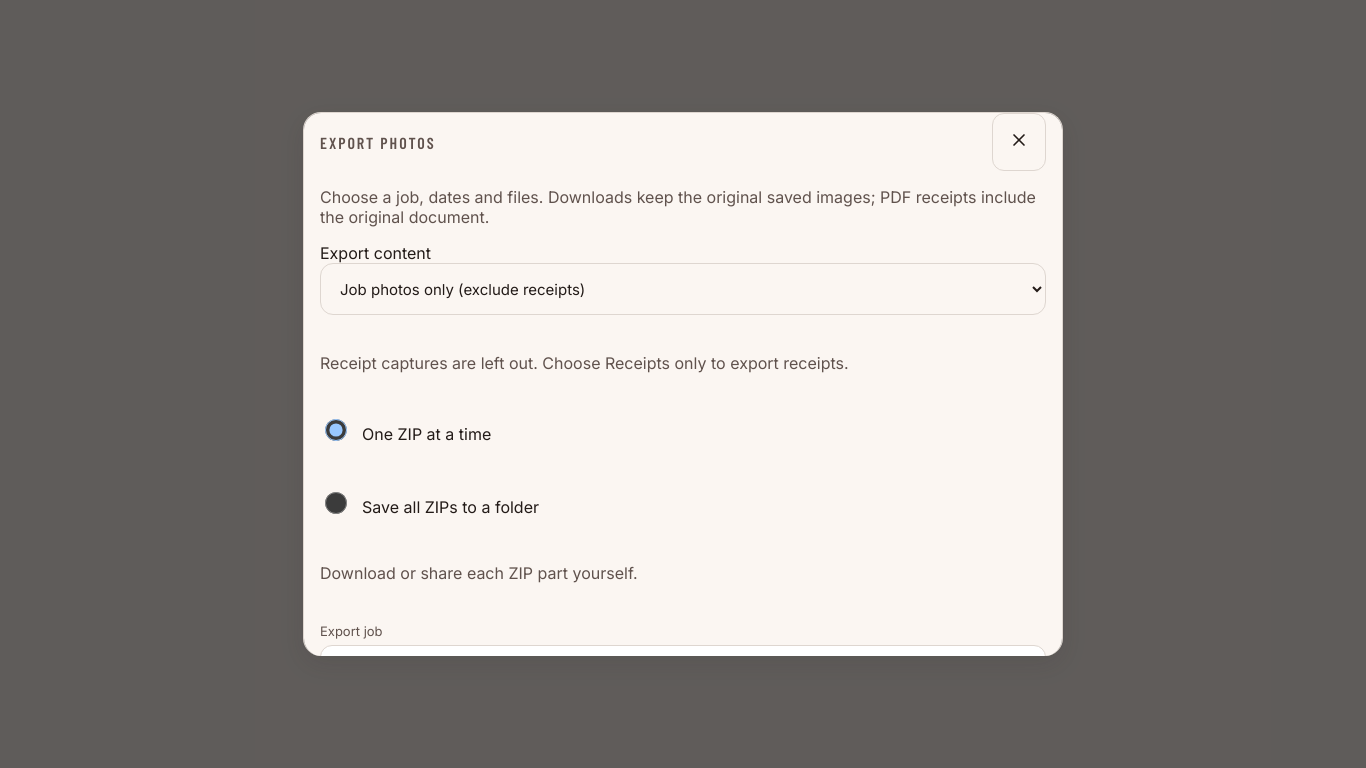
Test: acknowledged manual completion of the only ZIP is not folder-save success or failure
Step 1. Click the radio button labelled "Save all ZIPs to a folder" → (336, 503), box top-left (325, 477), bottom-right (347, 529)
(page scrolled)
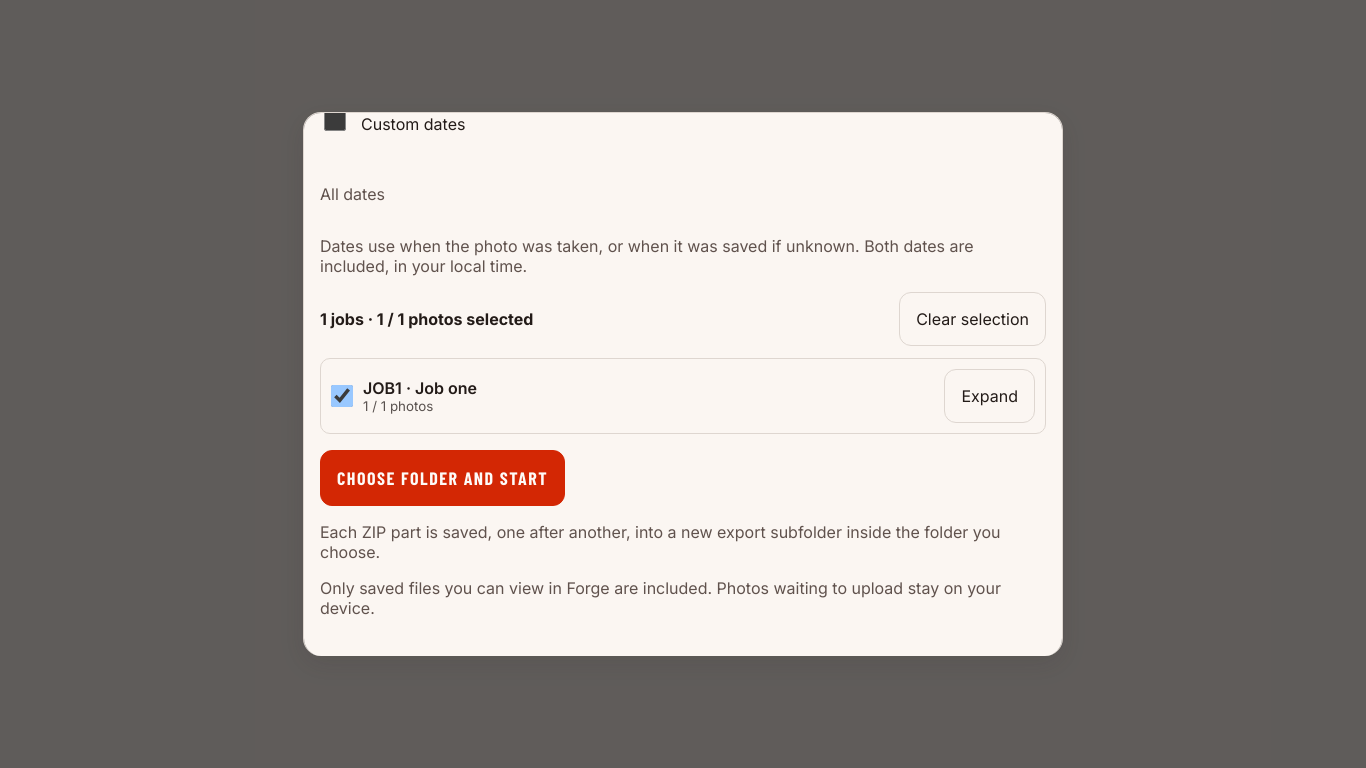
Step 2. Click the button "Choose folder and start" → (443, 478), box top-left (320, 450), bottom-right (565, 506)
(page scrolled)
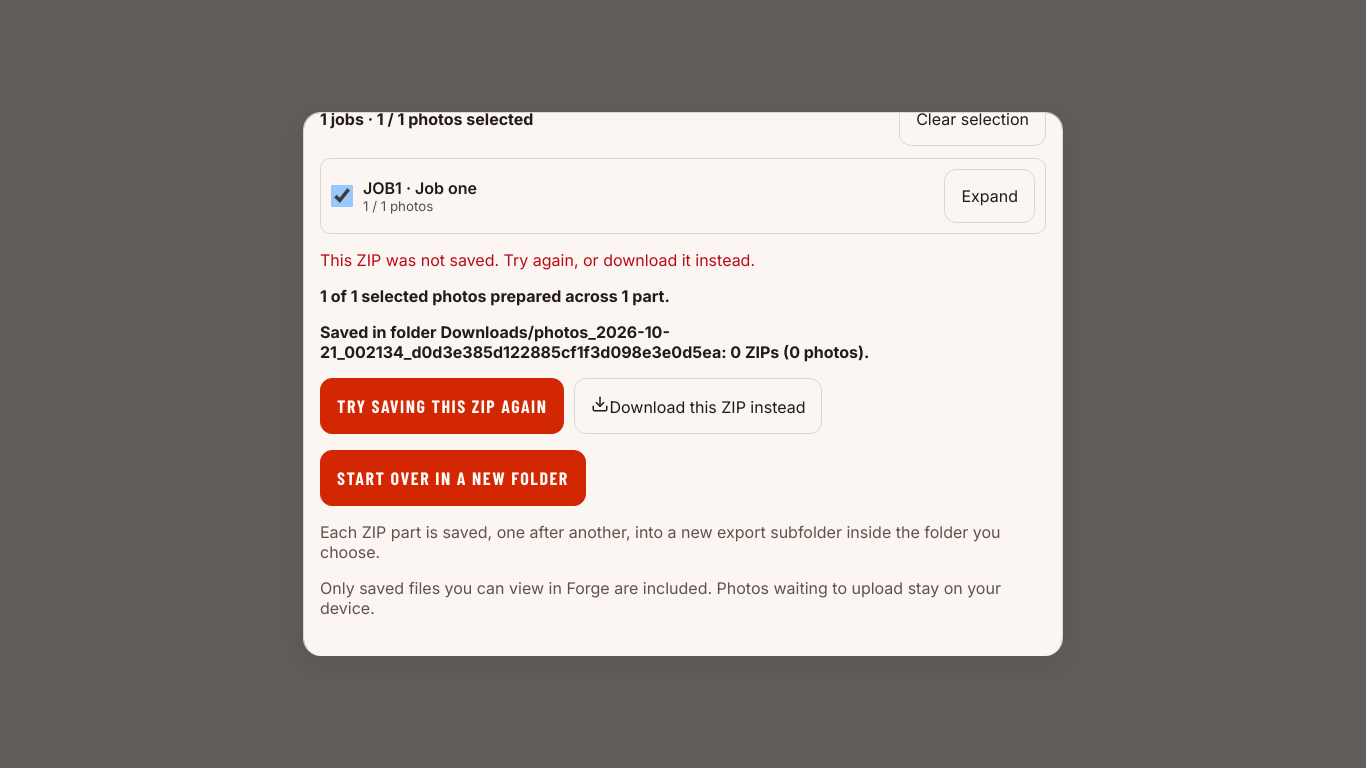
Step 3. Click the button "Download this ZIP instead" → (698, 406), box top-left (574, 378), bottom-right (822, 434)
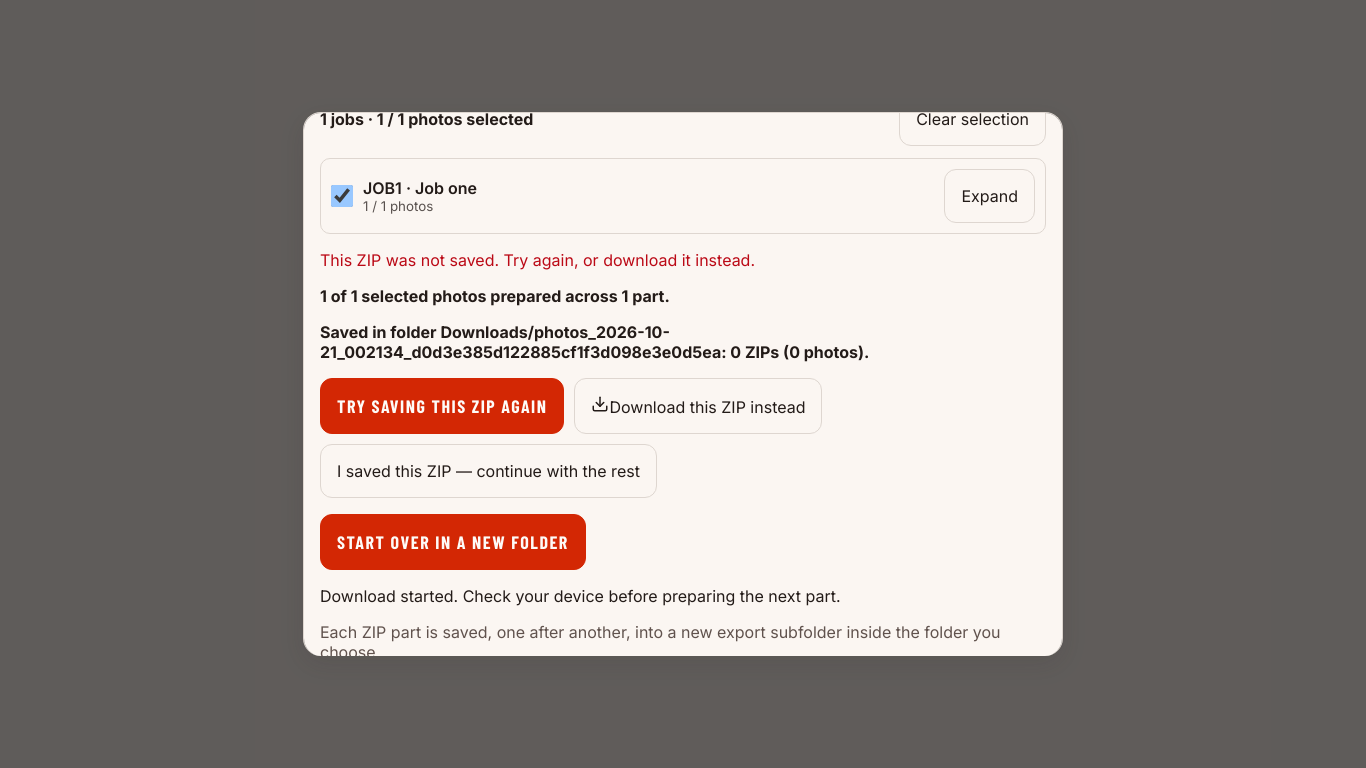
Step 4. Click the button "I saved this ZIP — continue with the rest" → (488, 471), box top-left (320, 444), bottom-right (657, 498)
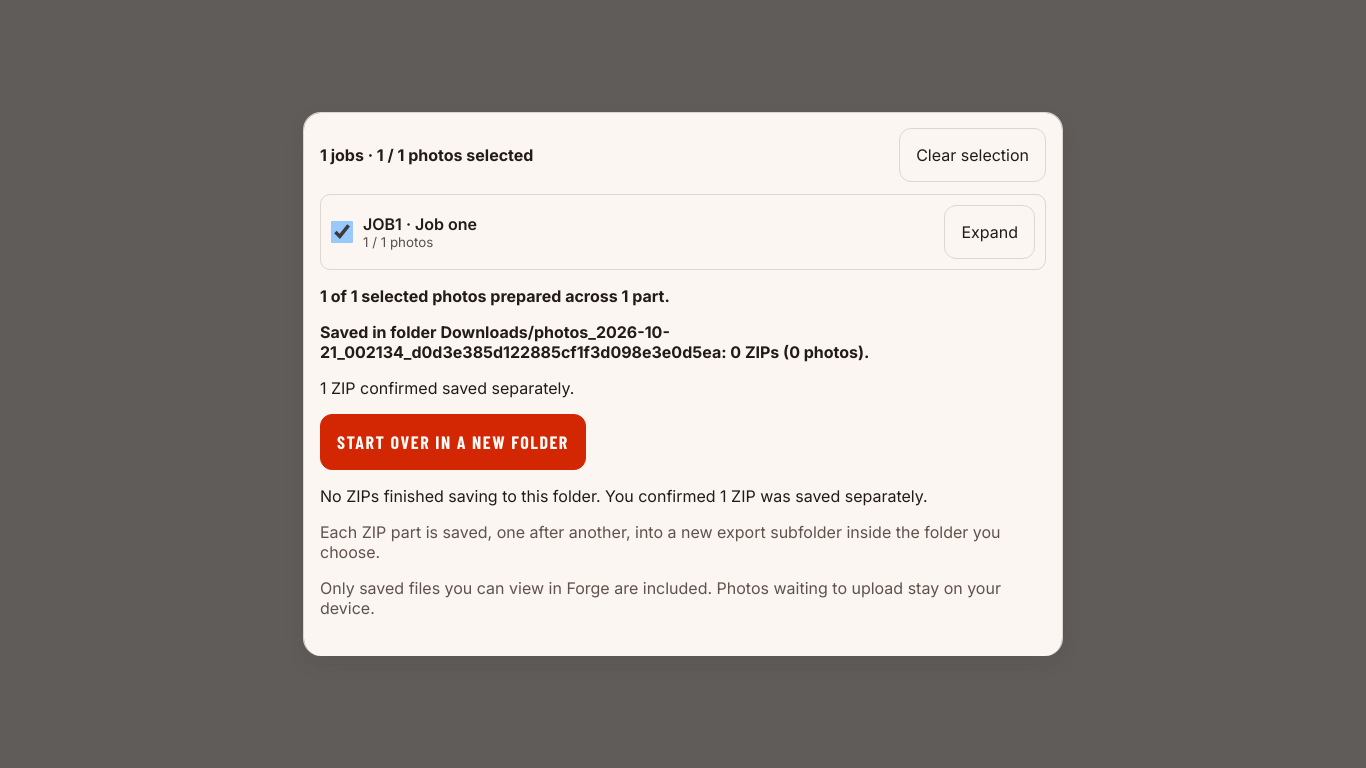
Check: the text "No ZIPs finished saving to this folder." is shown, box top-left (320, 486), bottom-right (928, 506)
